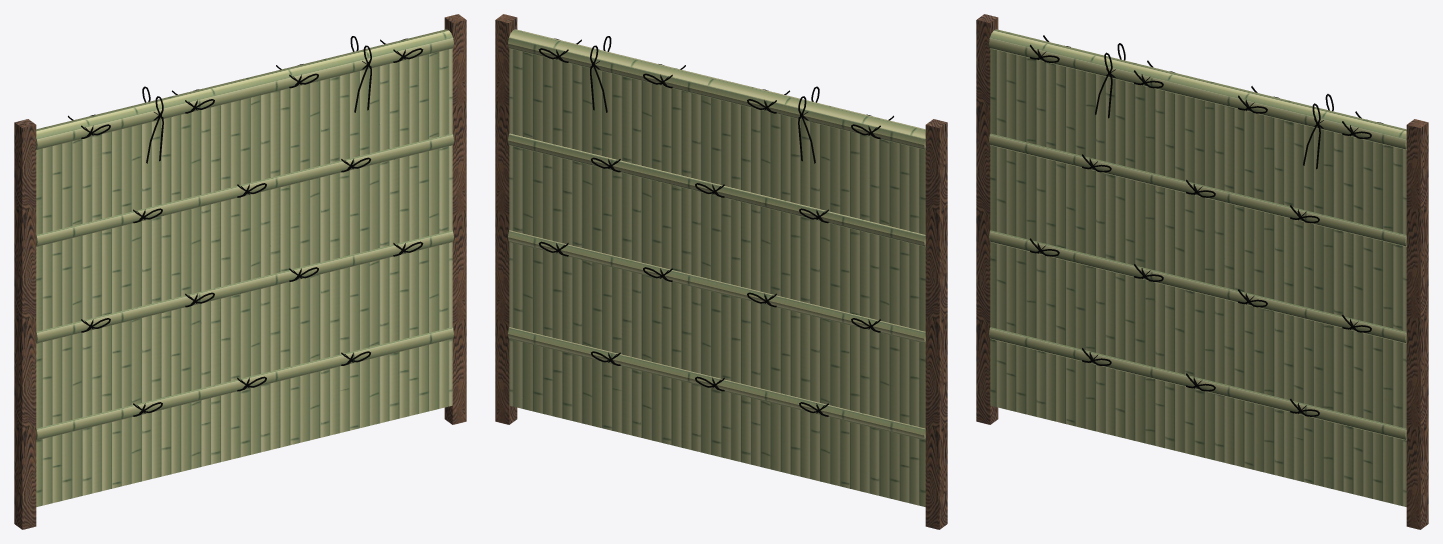
File: 1920-1500_ever1_kenninji-araiaodake.fbx
3 renders of one model, left to right at view 1: azimuth 30°, elevation 25°; view 2: azimuth 150°, elevation 25°; view 3: azimuth 330°, elevation 25°, orthographic.
Visible parts, largest first — view 1: 1920-1500_ever1araiaotake; view 2: 1920-1500_ever1araiaotake; view 3: 1920-1500_ever1araiaotake.
Part boxes in pixels (x1=…): 1920-1500_ever1araiaotake: x1=14, y1=14, x2=466, y2=529; 1920-1500_ever1araiaotake: x1=495, y1=14, x2=947, y2=529; 1920-1500_ever1araiaotake: x1=976, y1=14, x2=1428, y2=529.
Bounding box in the file's own units: 192 × 167 × 10.3.
5 materials, 4 textured.
